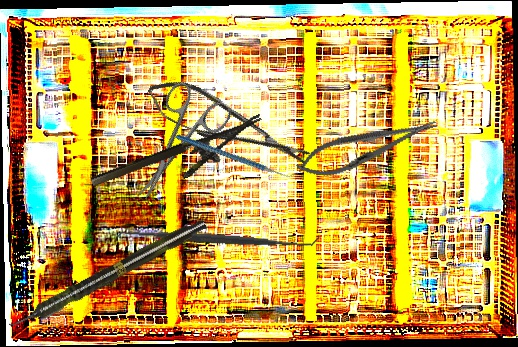Chopper: (175, 98, 299, 212)
Handpiece: (5, 214, 210, 336)
Iris Scissors: (113, 75, 235, 214)
Micro Scissor: (140, 68, 315, 182)
Needle Holder: (89, 114, 272, 209), (292, 107, 442, 187)
Spatula Surgical: (115, 219, 321, 258)
